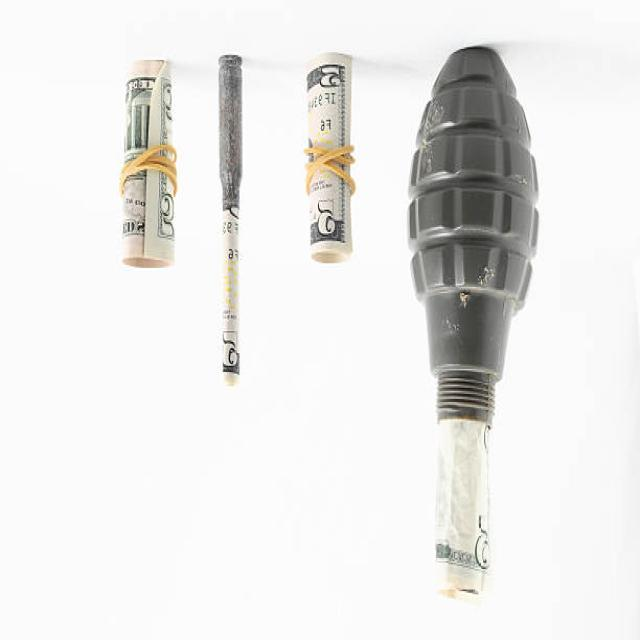grenade: (407, 43, 542, 429)
